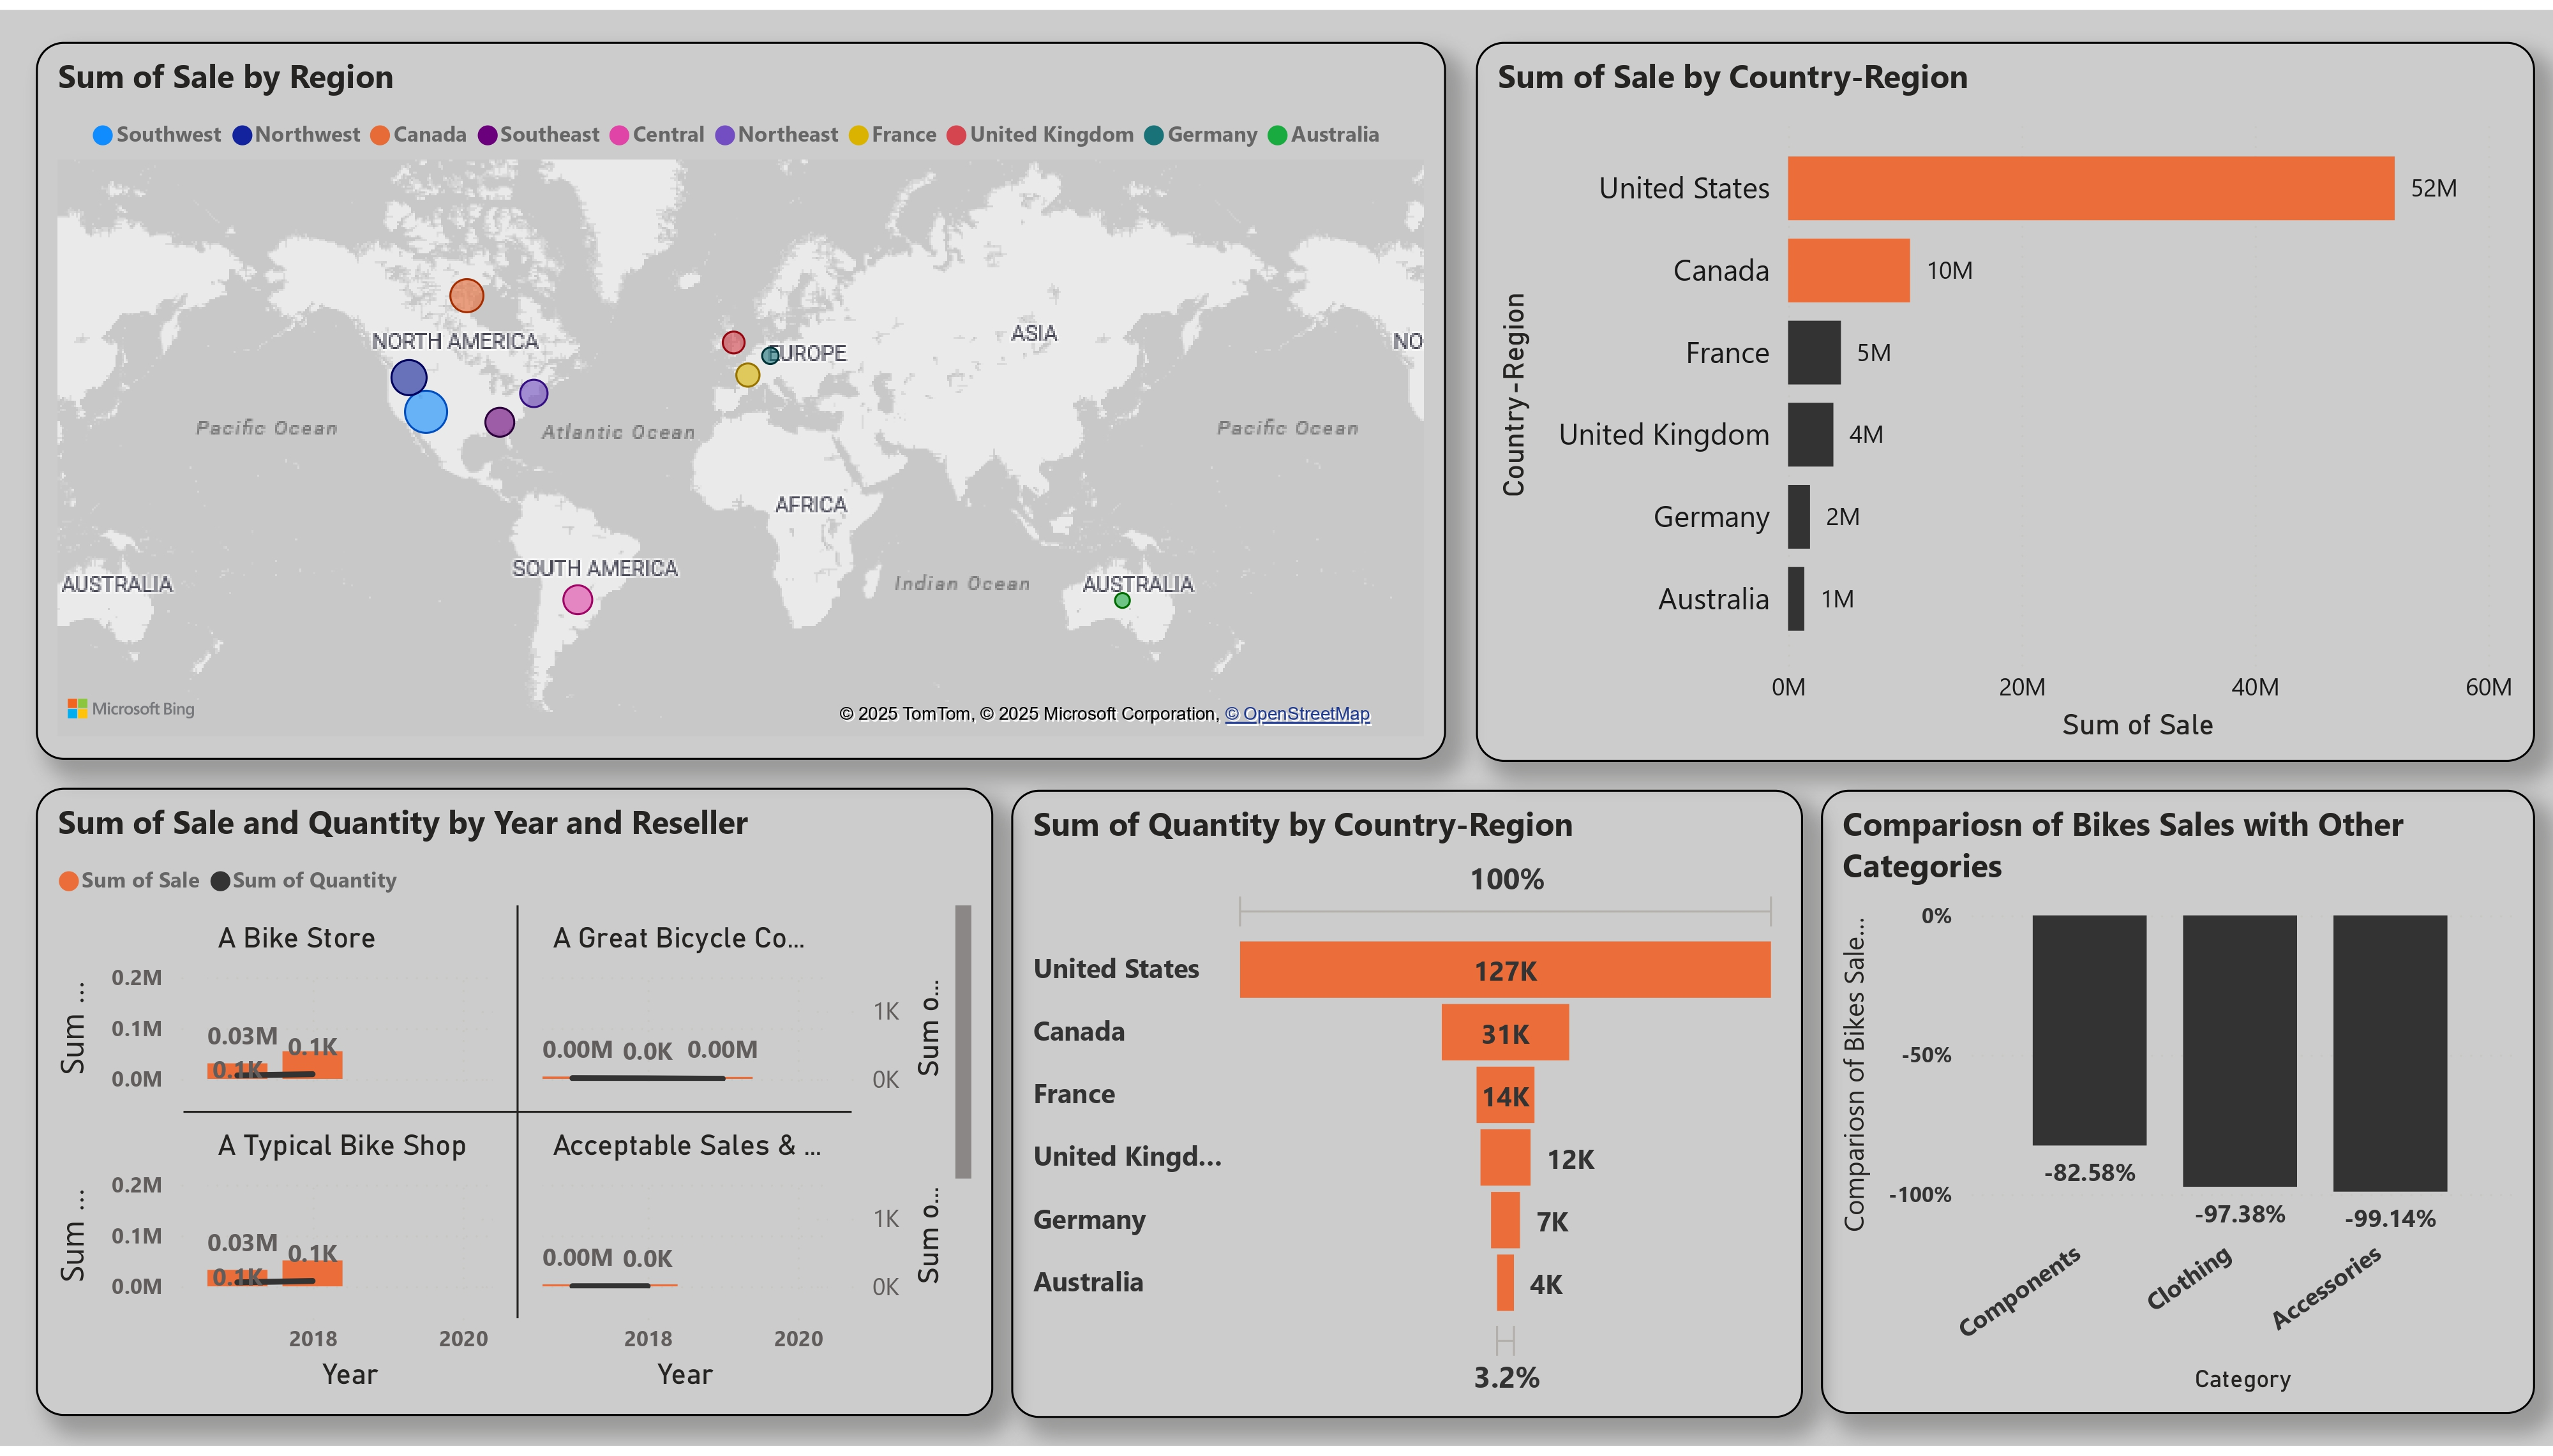

What the dashboard file says about the page in this screenshot:
{"tool":"powerbi","page":{"name":"2","canvas":[1280,720],"ordinal":1},"visuals":[{"type":"map","title":"Sum of Sale by Region","fields":{"Series":["Sales.Region"],"Size":["Sum(Sales.Sale)"],"Category":["Sales.Region"]},"box":[18.1,15.7,707,359.5],"z":0},{"type":"clusteredBarChart","fields":{"Category":["Reseller.Country-Region"],"Y":["Sum(Sales.Sale)"]},"box":[739.5,15.7,530.8,360.7],"z":1000},{"type":"lineClusteredColumnComboChart","title":"Sum of Sale and Quantity by Year and Reseller","fields":{"Category":["Sales.Order Date.Variation.Date Hierarchy.Year"],"Y":["Sum(Sales.Sale)"],"Rows":["Reseller.Reseller"],"Y2":["Sum(Sales.Quantity)"]},"box":[17.9,389.7,480.2,314.9],"z":2000},{"type":"funnel","fields":{"Y":["Sum(Sales.Quantity)"],"Category":["Reseller.Country-Region"]},"box":[506.7,390.9,396.9,314.9],"z":3000},{"type":"clusteredColumnChart","title":"Compariosn of Bikes Sales with Other Categories","fields":{"Category":["Sales.Category"],"Y":["Table.Compariosn of Bikes Sales with Others"]},"box":[912.8,390.6,358.4,313.1],"z":4000}]}

Visuals, with their boxes in screenshot pixels (x1, y1, x2, y2), scaled from the page's 1280x720 canvas onto the 2553x1456 screenshot:
"Sum of Sale by Region" map: left=36, top=32, right=1446, bottom=759
clusteredBarChart - Reseller.Country-Region x Sum(Sales.Sale): left=1475, top=32, right=2534, bottom=761
"Sum of Sale and Quantity by Year and Reseller" lineClusteredColumnComboChart: left=36, top=788, right=994, bottom=1425
funnel - Sum(Sales.Quantity) x Reseller.Country-Region: left=1010, top=791, right=1802, bottom=1427
"Compariosn of Bikes Sales with Other Categories" clusteredColumnChart: left=1820, top=790, right=2535, bottom=1423
